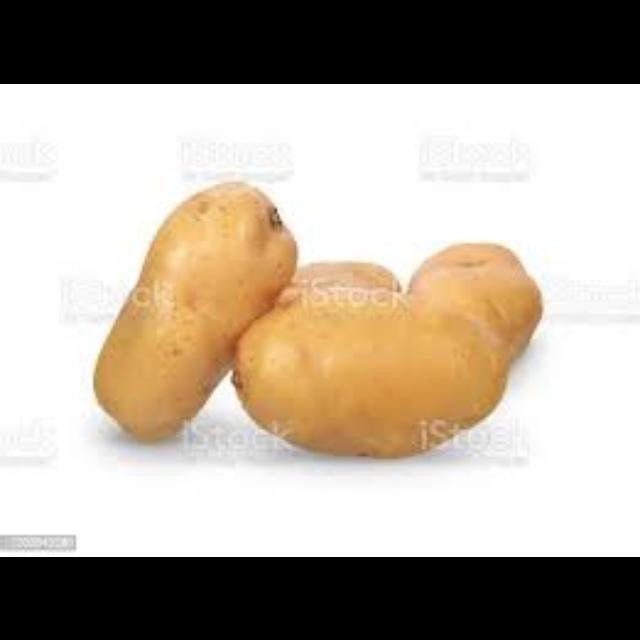Potato: (226, 273, 507, 472), (90, 176, 296, 447), (406, 238, 546, 358)
